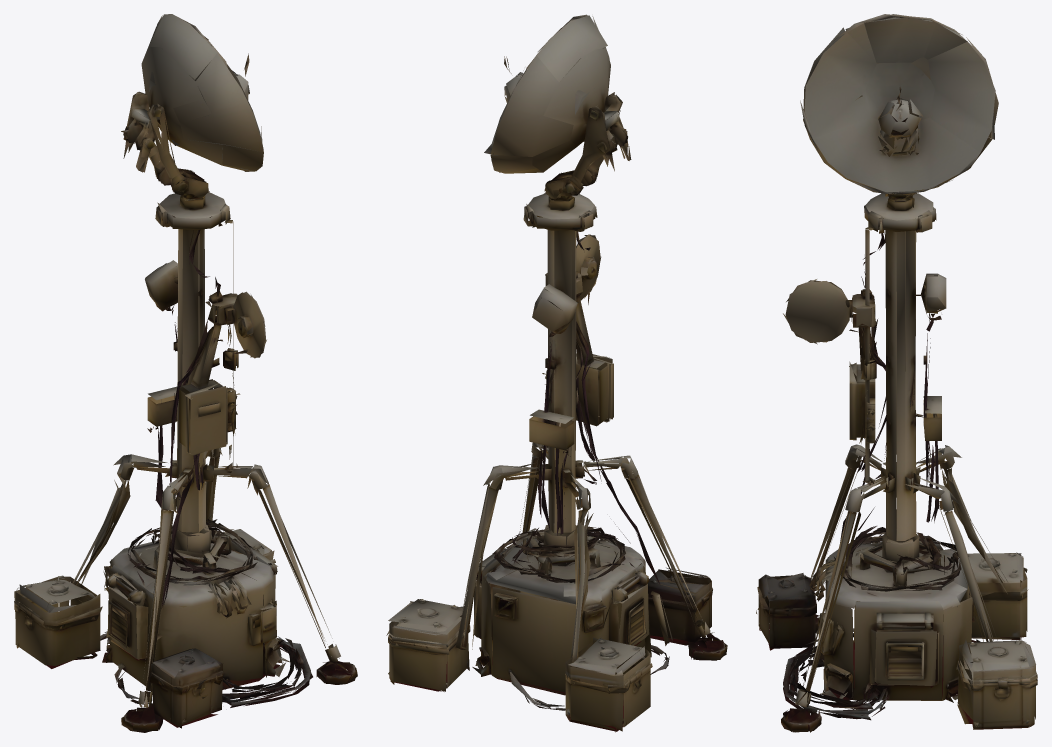
Rendered from ch5_meridian_comms_mast_LOD2.glb.
3 views of the same model, side by side, from view 1: azimuth 30°, elevation 25°; view 2: azimuth 150°, elevation 25°; view 3: azimuth 270°, elevation 25° (orthographic). The views are drawn at different scales.
Parts seen in each view (by area): view 1: tripo_node_35f3261e-9936-461f-8cbf-431a47ee86c6; view 2: tripo_node_35f3261e-9936-461f-8cbf-431a47ee86c6; view 3: tripo_node_35f3261e-9936-461f-8cbf-431a47ee86c6.
Boxes of the visible parts, x1,y1,x2,y2 form: tripo_node_35f3261e-9936-461f-8cbf-431a47ee86c6: (14,14,357,732); tripo_node_35f3261e-9936-461f-8cbf-431a47ee86c6: (386,14,727,732); tripo_node_35f3261e-9936-461f-8cbf-431a47ee86c6: (756,14,1037,732).
Bounding box in the file's own units: 0.3912 × 1 × 0.3869.
1 material, 1 textured.
